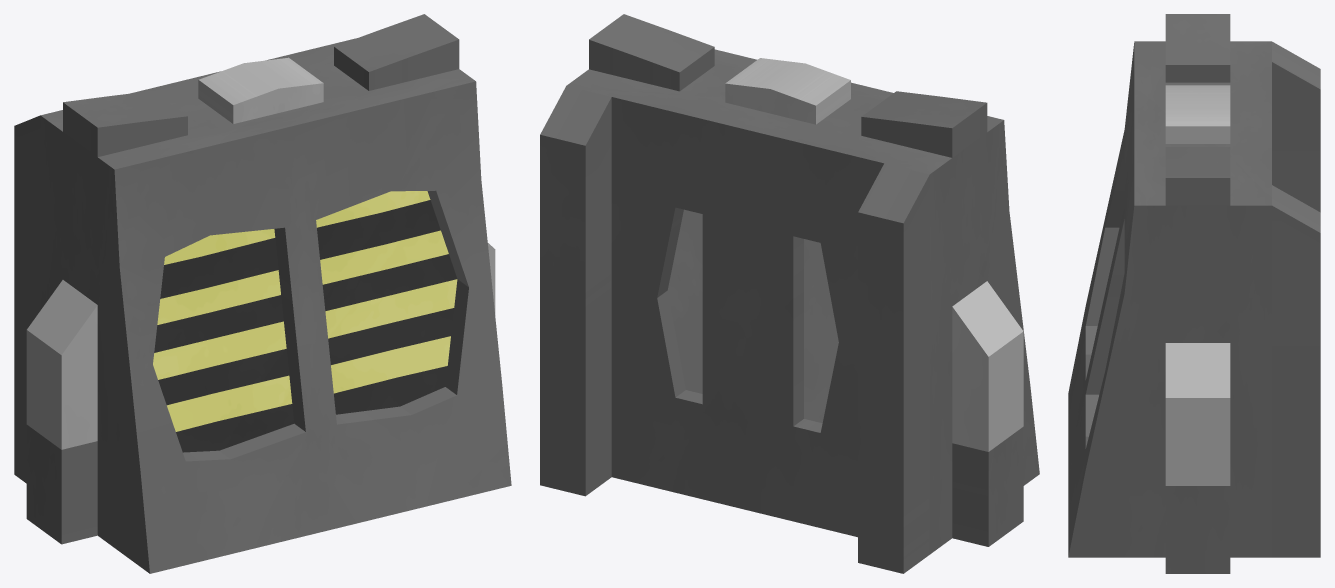
The model's file is Wall.fbx.
3 renders of one model, left to right at view 1: azimuth 30°, elevation 25°; view 2: azimuth 150°, elevation 25°; view 3: azimuth 270°, elevation 25°, orthographic. The views are drawn at different scales.
Parts seen in each view (by area): view 1: Box001; view 2: Box001; view 3: Box001.
Boxes of the visible parts, x1,y1,x2,y2 form: Box001: (14, 14, 511, 573); Box001: (540, 14, 1039, 573); Box001: (1068, 14, 1320, 573).
Bounding box in the file's own units: 47.24 × 42.45 × 25.58.
